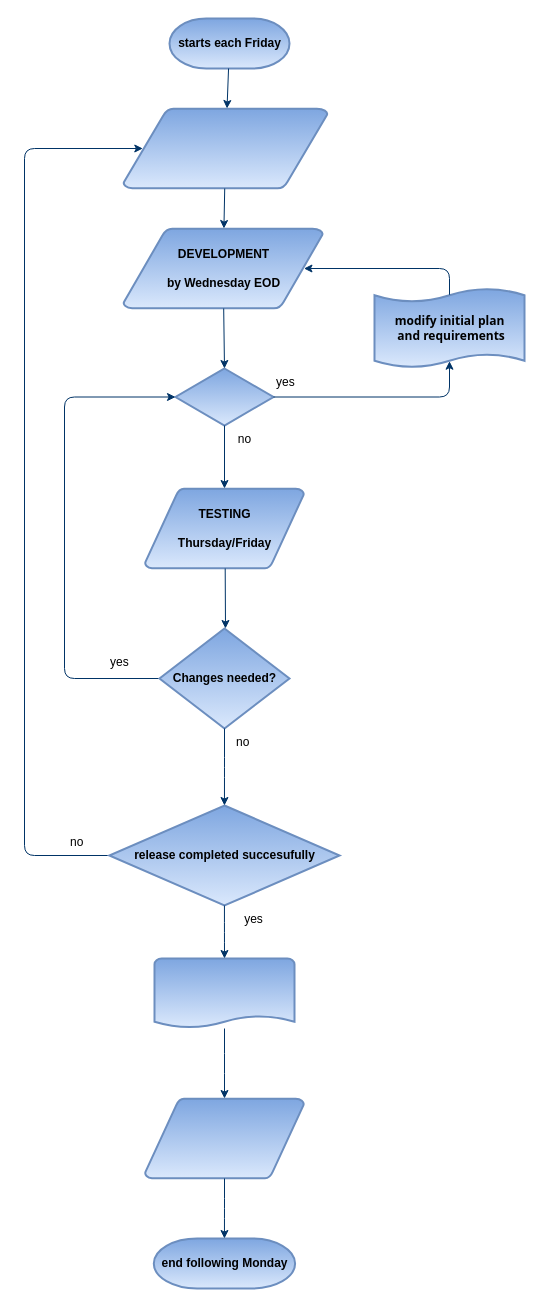
Image size: 543x1306. Some labels were removed from this diagram. The shapes that lost their labels are listed below. From the top down, each one's centre as x and y in pixels, then its label:
At point (225, 148): "set the REQUIERMENTS PLAN the release".
At point (224, 396): "obstacles".
At point (224, 993): "READY TO DEPLOY".
At point (224, 1138): "create final report".
